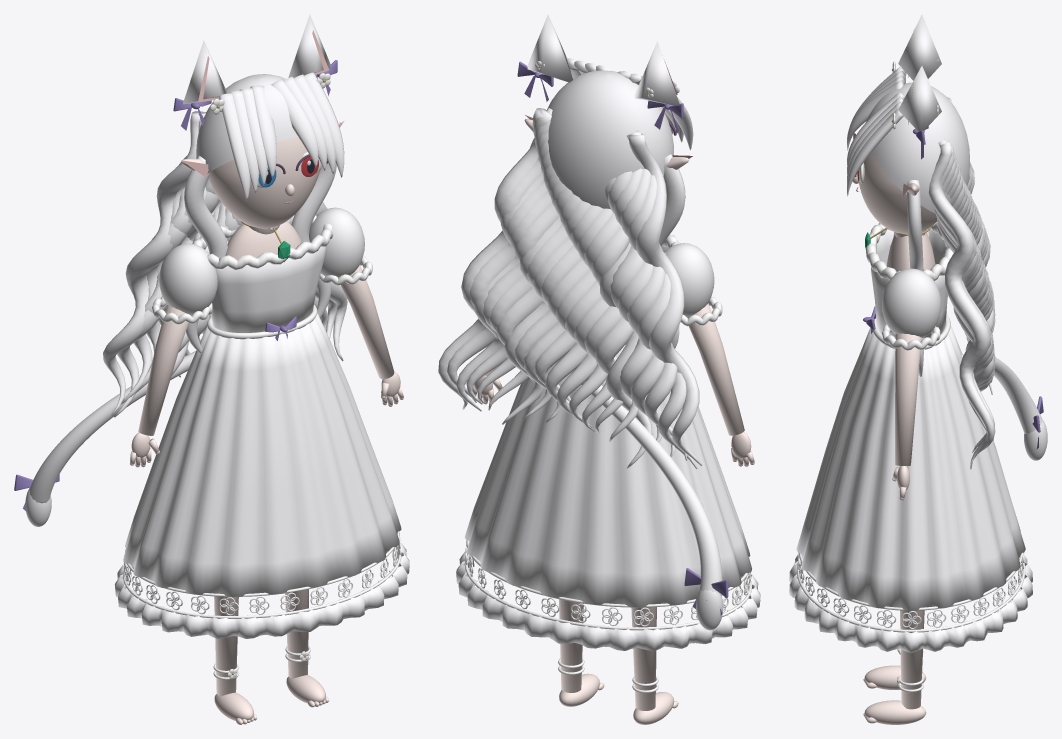
Rendered from character-v01.glb.
3 views of the same model, side by side, from view 1: azimuth 30°, elevation 25°; view 2: azimuth 150°, elevation 25°; view 3: azimuth 270°, elevation 25° (orthographic). The views are drawn at different scales.
Visible parts, largest first — view 1: skirt, bodice, hem_ruffle, head, back_curl_00, puff_sleeve_-1, hair_cap, wearable_tail, arm_-1, puff_sleeve_1, arm_1, side_curl_-1 (+25 smaller); view 2: skirt, hair_cap, hem_ruffle, back_curl_00, wearable_tail, back_curl_20, back_curl_02, back_curl_21, back_curl_01, arm_-1, back_curl_16, back_curl_03 (+27 smaller); view 3: skirt, hair_cap, hem_ruffle, back_curl_21, puff_sleeve_1, arm_1, head, bodice, leg_1, cat_ear_1, cat_ear_-1, wearable_tail (+15 smaller).
Boxes of the visible parts, <box> form: skirt: <box>123,313,401,596</box>; bodice: <box>205,238,325,332</box>; hem_ruffle: <box>114,543,409,638</box>; head: <box>208,137,320,228</box>; back_curl_00: <box>103,111,204,415</box>; puff_sleeve_-1: <box>159,243,217,315</box>; hair_cap: <box>196,74,298,173</box>; wearable_tail: <box>29,351,195,503</box>; arm_-1: <box>138,305,188,435</box>; puff_sleeve_1: <box>309,207,364,277</box>; arm_1: <box>340,265,394,379</box>; side_curl_-1: <box>184,155,227,353</box>; skirt: <box>464,345,751,607</box>; hair_cap: <box>547,70,673,208</box>; hem_ruffle: <box>456,551,760,651</box>; back_curl_00: <box>628,133,702,465</box>; wearable_tail: <box>581,381,722,600</box>; back_curl_20: <box>447,108,551,402</box>; back_curl_02: <box>620,168,687,460</box>; back_curl_21: <box>438,108,543,409</box>; back_curl_01: <box>627,130,697,468</box>; arm_-1: <box>687,303,744,435</box>; back_curl_16: <box>488,152,559,410</box>; back_curl_03: <box>614,168,674,457</box>; skirt: <box>796,325,1025,610</box>; hair_cap: <box>866,82,970,213</box>; hem_ruffle: <box>789,554,1032,653</box>; back_curl_21: <box>928,145,995,469</box>; puff_sleeve_1: <box>882,268,941,337</box>; arm_1: <box>895,333,921,465</box>; head: <box>858,153,937,233</box>; bodice: <box>871,228,947,337</box>; leg_1: <box>900,610,924,709</box>; cat_ear_1: <box>898,66,941,131</box>; cat_ear_-1: <box>898,14,941,80</box>; wearable_tail: <box>961,354,1042,434</box>.
Bounding box in the file's own units: 0.6732 × 1.36 × 0.4769.
